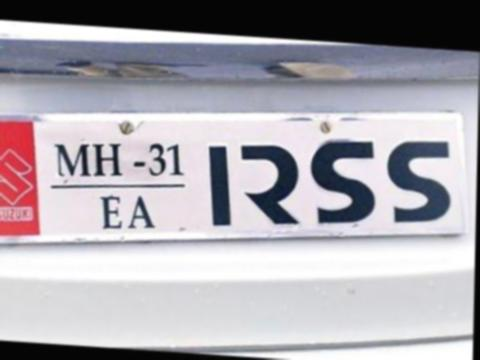License_Plate: (0, 113, 466, 263)
